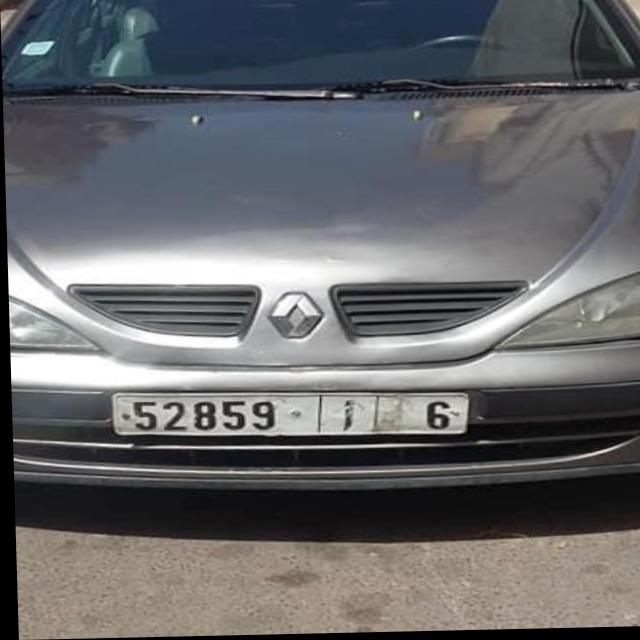License-Plate: (111, 394, 467, 438)
